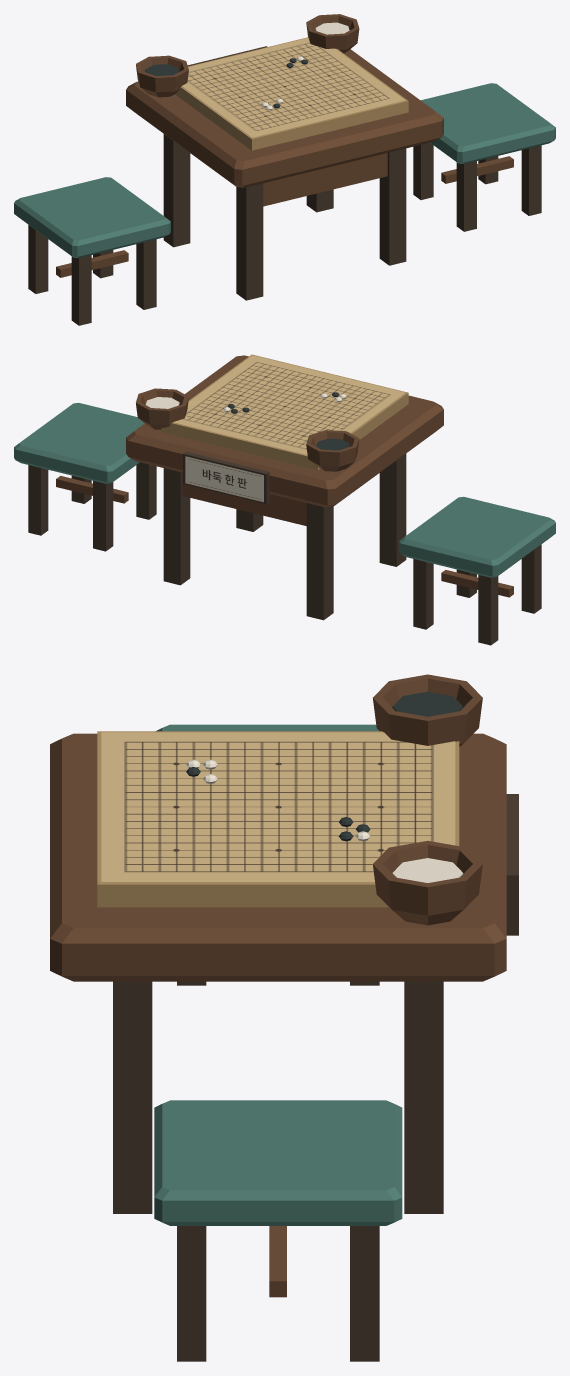
The model's file is F07_Baduk_Rest_Corner.fbx.
The picture shows the model from 3 angles, top to bottom: view 1: azimuth 30°, elevation 25°; view 2: azimuth 150°, elevation 25°; view 3: azimuth 270°, elevation 25°; orthographic projection. The views are drawn at different scales.
Parts seen in each view (by area): view 1: Baduk_Table, Stools, Board, Stone_Bowls; view 2: Stools, Baduk_Table, Board, Stone_Bowls, Front_Label; view 3: Baduk_Table, Board, Stools, Stone_Bowls, Front_Label, Playing_Stones.
Part boxes in pixels (<box>): Baduk_Table: <box>126,49,443,300</box>; Stools: <box>14,83,555,325</box>; Board: <box>175,37,408,150</box>; Stone_Bowls: <box>136,14,359,97</box>; Stools: <box>14,402,555,645</box>; Baduk_Table: <box>126,355,443,620</box>; Board: <box>161,354,408,470</box>; Stone_Bowls: <box>136,388,359,471</box>; Front_Label: <box>183,451,269,504</box>; Baduk_Table: <box>50,733,506,1213</box>; Board: <box>97,731,459,907</box>; Stools: <box>154,724,402,1361</box>; Stone_Bowls: <box>372,674,482,925</box>; Front_Label: <box>506,794,518,935</box>; Playing_Stones: <box>186,759,370,841</box>.
Bounding box in the file's own units: 2.84 × 0.995 × 1.19.
7 materials, 1 textured.
